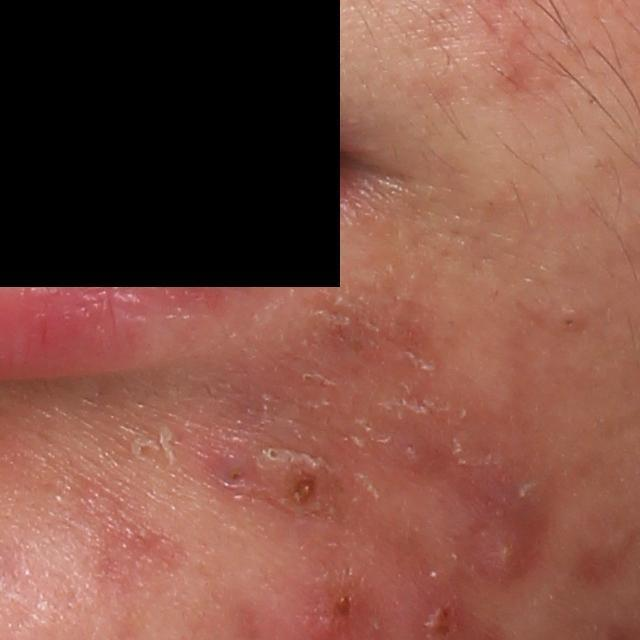comedo: (263, 442, 285, 464)
papule: (453, 439, 558, 599), (573, 514, 634, 583), (375, 417, 433, 480), (278, 458, 331, 519), (208, 438, 250, 489)
